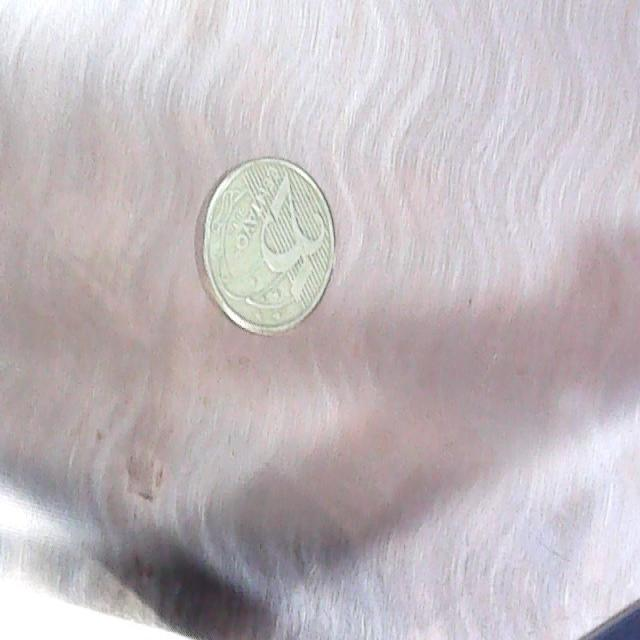25 cents: (196, 147, 342, 343)
